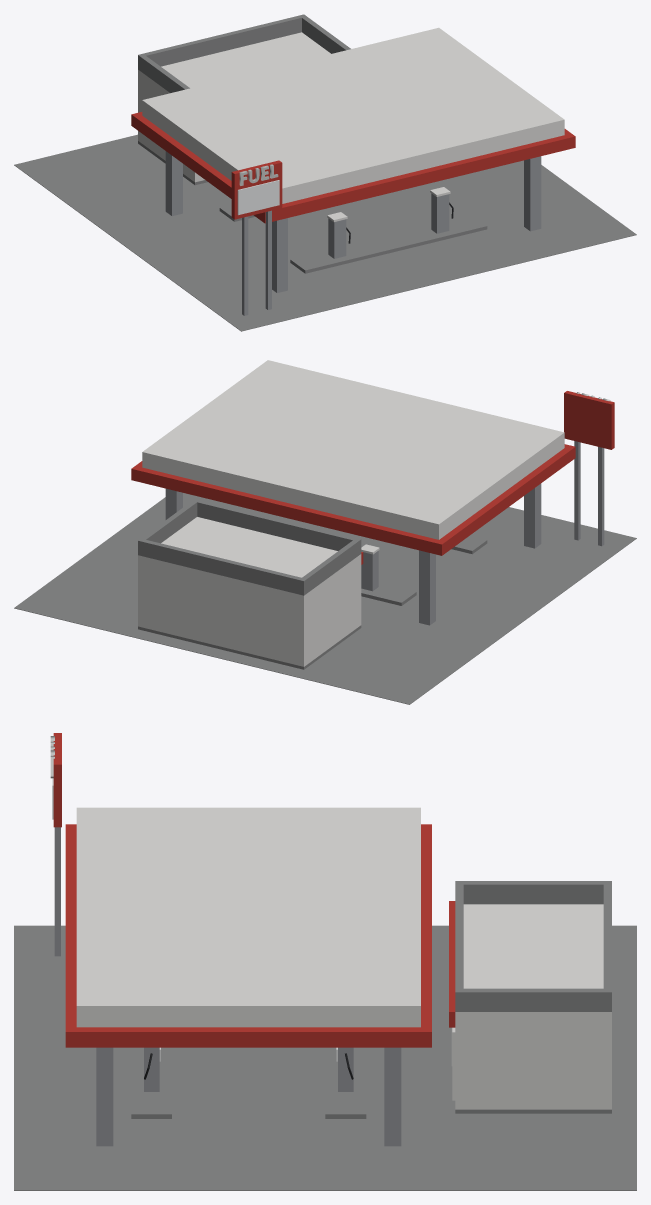
The model's file is city_gas.fbx.
3 views of the same model, one above another, from view 1: azimuth 30°, elevation 25°; view 2: azimuth 150°, elevation 25°; view 3: azimuth 270°, elevation 25° (orthographic). The views are drawn at different scales.
Visible parts, largest first — view 1: concrete_1, trim_1, red_1, steel_1, tube_1; view 2: trim_1, concrete_1, red_1, steel_1; view 3: trim_1, concrete_1, red_1, steel_1.
Part boxes in pixels (x1=…): concrete_1: x1=14, y1=14, x2=636, y2=331; trim_1: x1=138, y1=27, x2=564, y2=221; red_1: x1=131, y1=112, x2=575, y2=223; steel_1: x1=165, y1=151, x2=541, y2=315; tube_1: x1=237, y1=180, x2=279, y2=215; trim_1: x1=138, y1=360, x2=564, y2=666; concrete_1: x1=14, y1=493, x2=636, y2=704; red_1: x1=131, y1=391, x2=614, y2=564; steel_1: x1=165, y1=441, x2=604, y2=625; trim_1: x1=76, y1=807, x2=611, y2=1109; concrete_1: x1=14, y1=881, x2=636, y2=1190; red_1: x1=53, y1=733, x2=455, y2=1047; steel_1: x1=54, y1=827, x2=401, y2=1146.
Size of the model in its own units: 2 by 0.7009 by 1.99.
